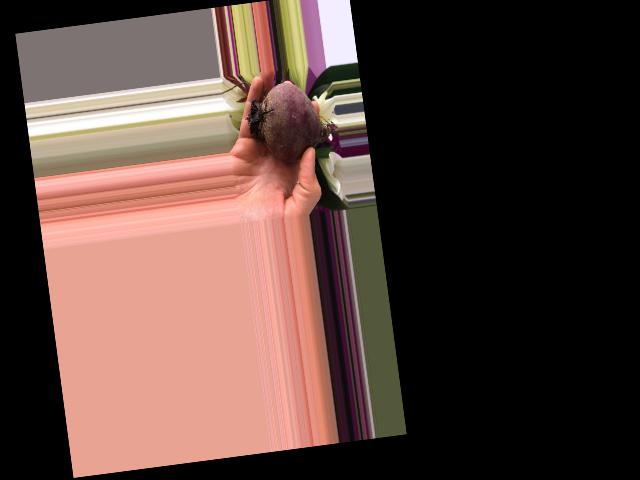beet: (241, 75, 341, 166)
